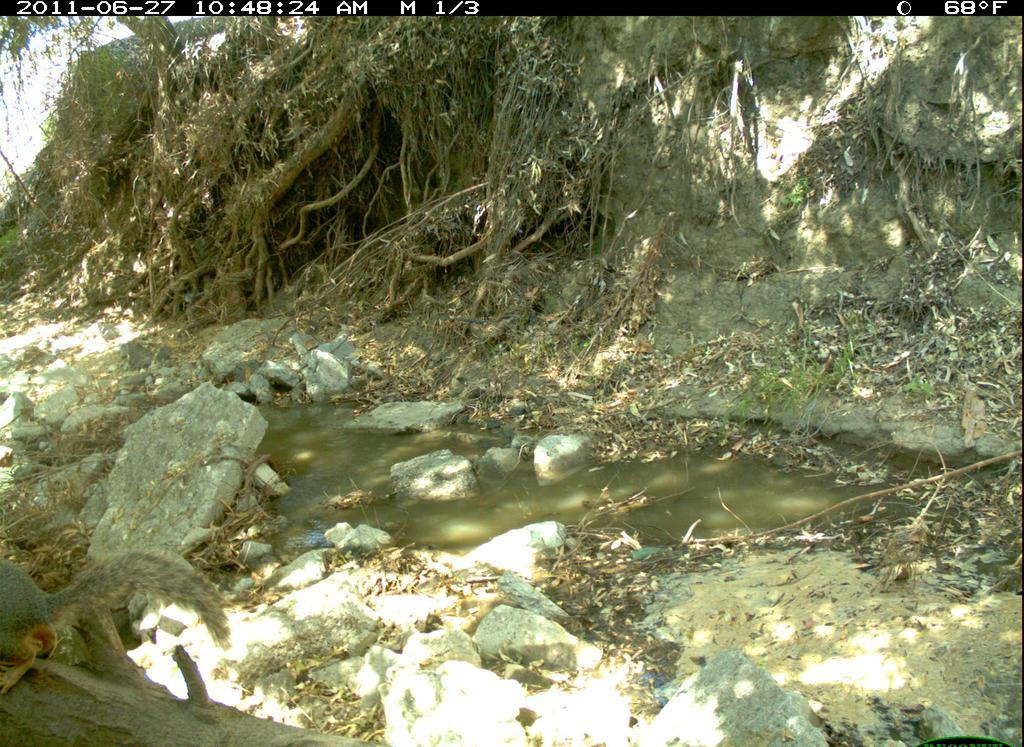squirrel: (1, 533, 244, 693)
